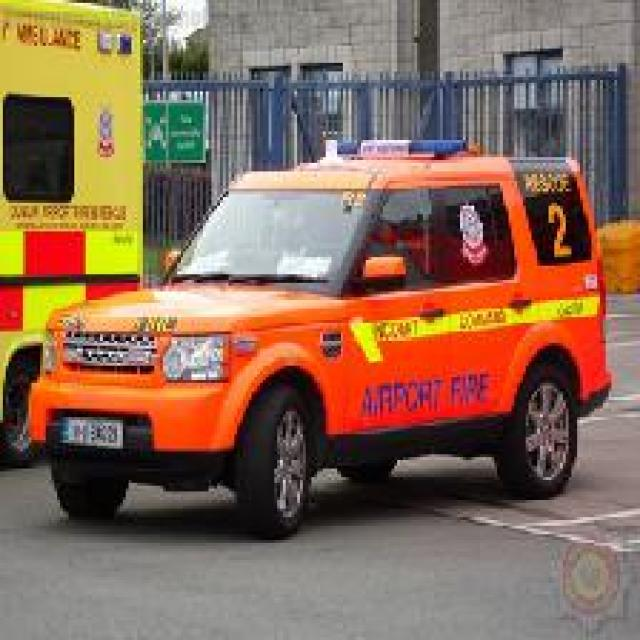Bus: (0, 0, 146, 469)
Fire-truck: (23, 134, 611, 537)
